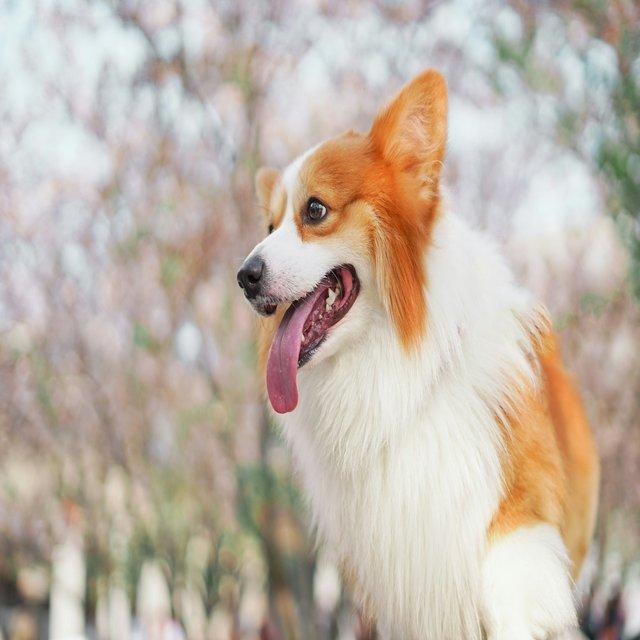corgi: (235, 67, 602, 638)
